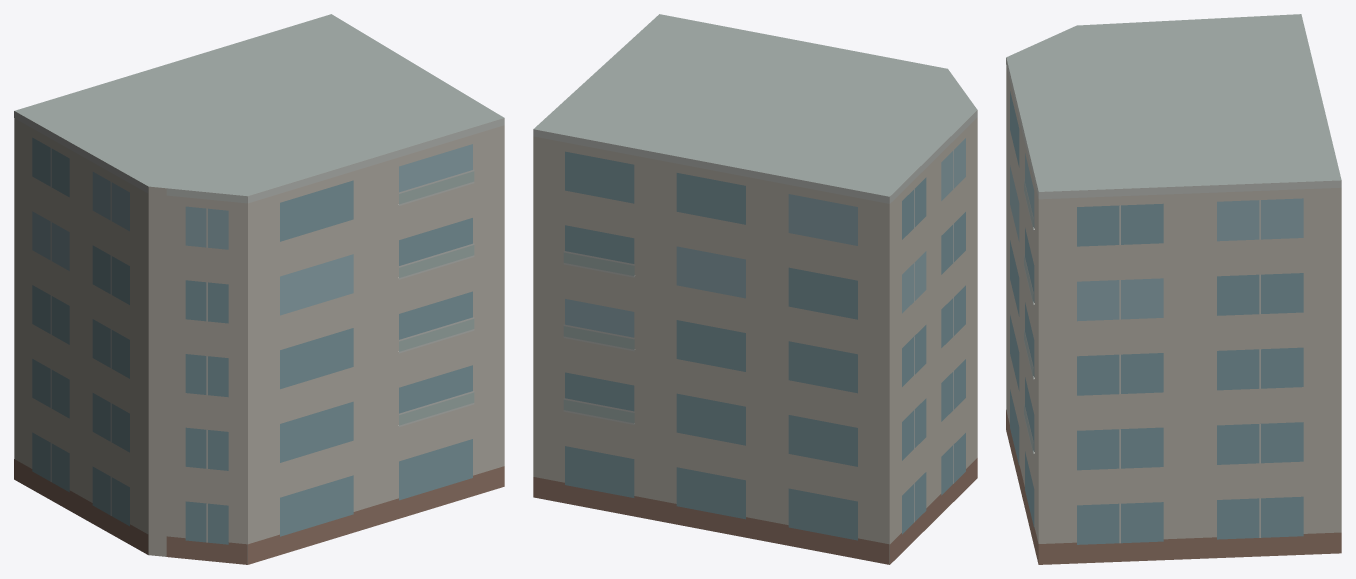
File: survey-upis-33008966.glb
The picture shows the model from 3 angles, left to right: view 1: azimuth 30°, elevation 25°; view 2: azimuth 150°, elevation 25°; view 3: azimuth 270°, elevation 25°; orthographic projection.
Parts seen in each view (by area): view 1: survey-upis-33008966.tmp; view 2: survey-upis-33008966.tmp; view 3: survey-upis-33008966.tmp.
Boxes of the visible parts, x1,y1,x2,y2 form: survey-upis-33008966.tmp: [14, 14, 504, 564]; survey-upis-33008966.tmp: [533, 14, 977, 564]; survey-upis-33008966.tmp: [1006, 14, 1341, 564].
Bounding box in the file's own units: 12.72 × 12.42 × 10.14.
